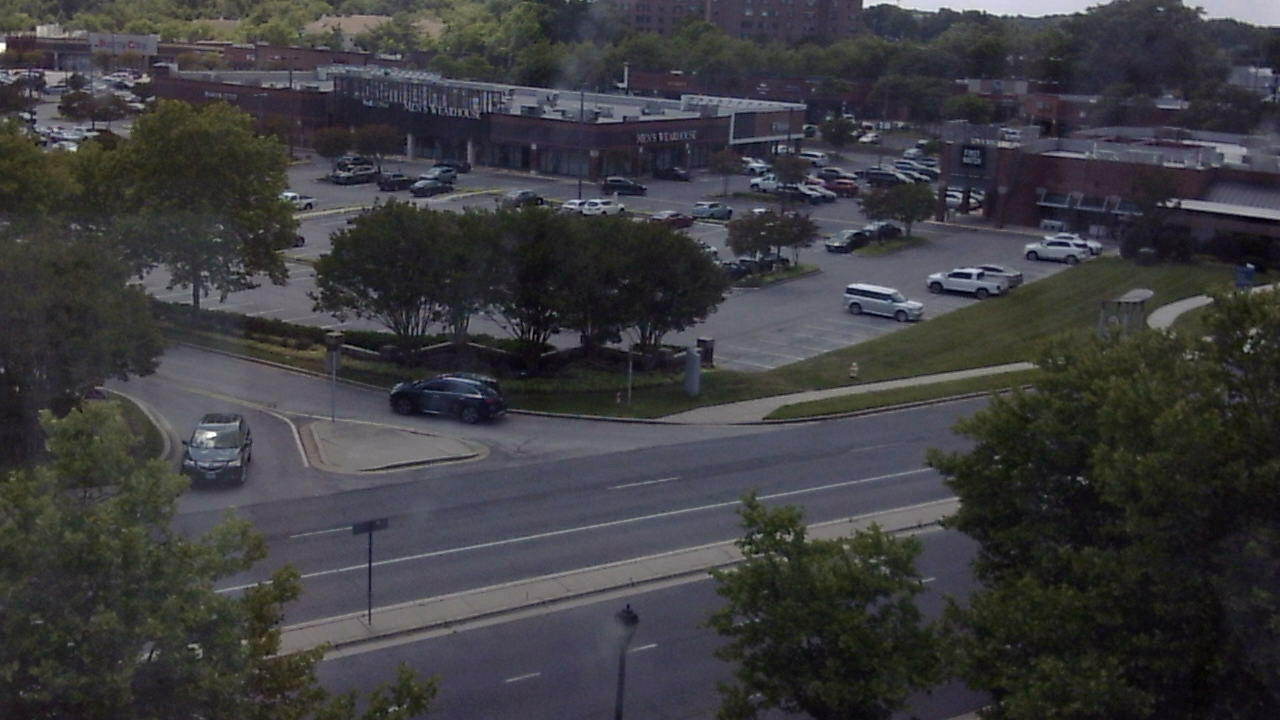Car: (382, 374, 510, 429), (182, 406, 258, 492)
